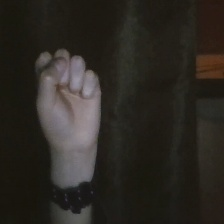S: (24, 39, 115, 164)
